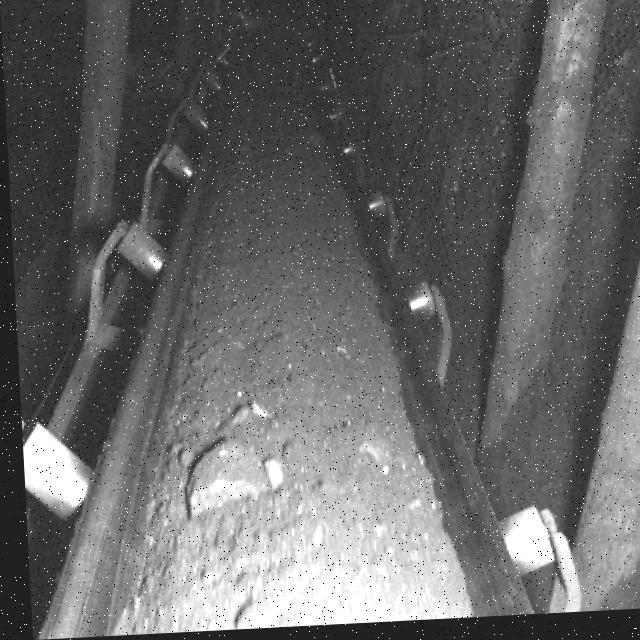large_sized_coal: (177, 437, 265, 511)
